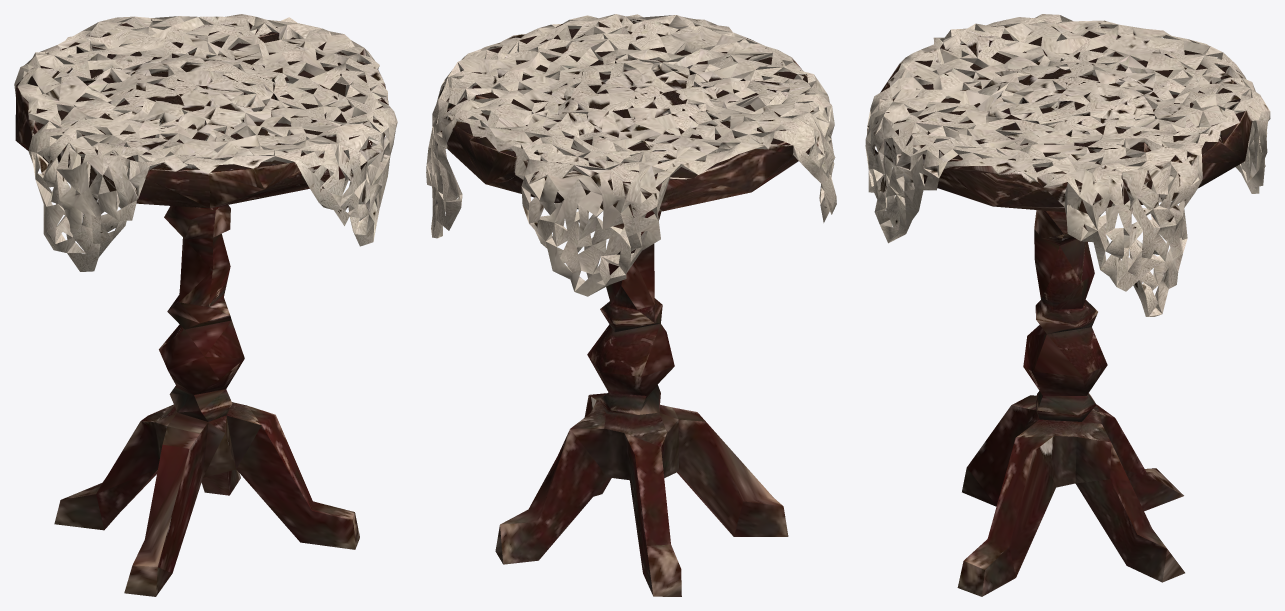
Rendered from p_side_table.glb.
3 renders of one model, left to right at view 1: azimuth 30°, elevation 25°; view 2: azimuth 150°, elevation 25°; view 3: azimuth 270°, elevation 25°, orthographic.
Visible parts, largest first — view 1: p_side_table; view 2: p_side_table; view 3: p_side_table.
Part boxes in pixels (x1=…): p_side_table: x1=14, y1=14, x2=397, y2=596; p_side_table: x1=426, y1=14, x2=836, y2=596; p_side_table: x1=865, y1=14, x2=1270, y2=596.
Bounding box in the file's own units: 0.5638 × 0.68 × 0.5493.
Materials: 1 (1 with a texture image).
